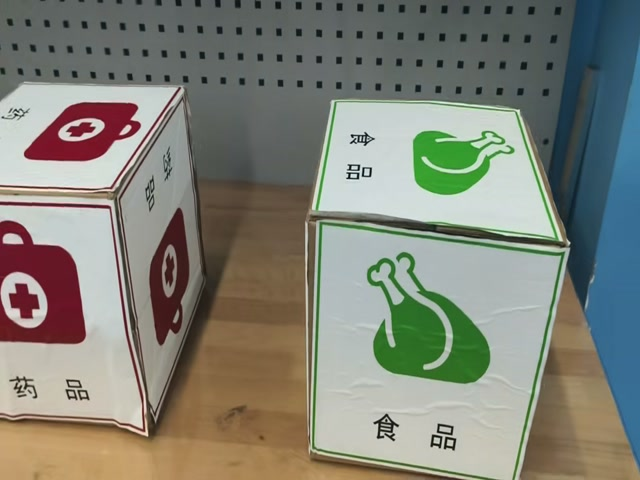Cube_food: (310, 105, 561, 249)
Cube_medicine: (0, 81, 182, 204)
